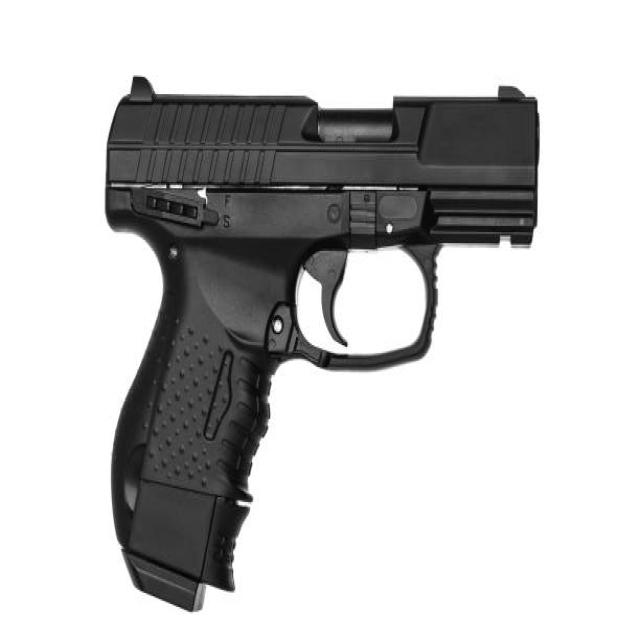pistol: (91, 70, 549, 634)
